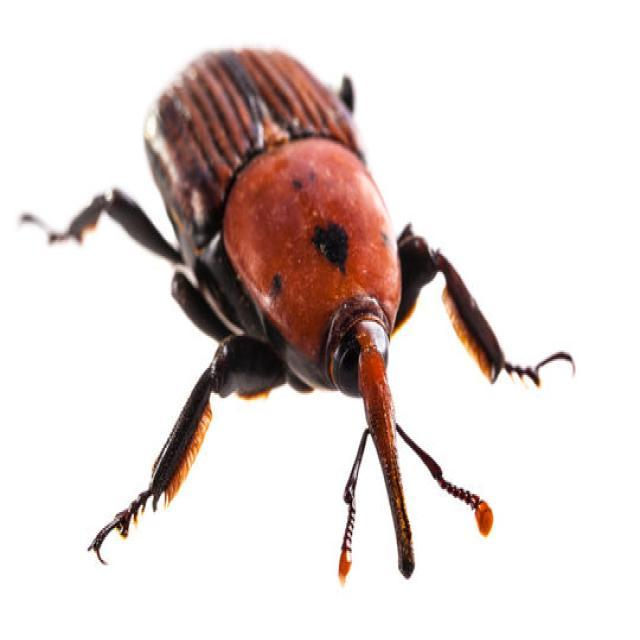Red-palm-weevil: (58, 41, 588, 610)
